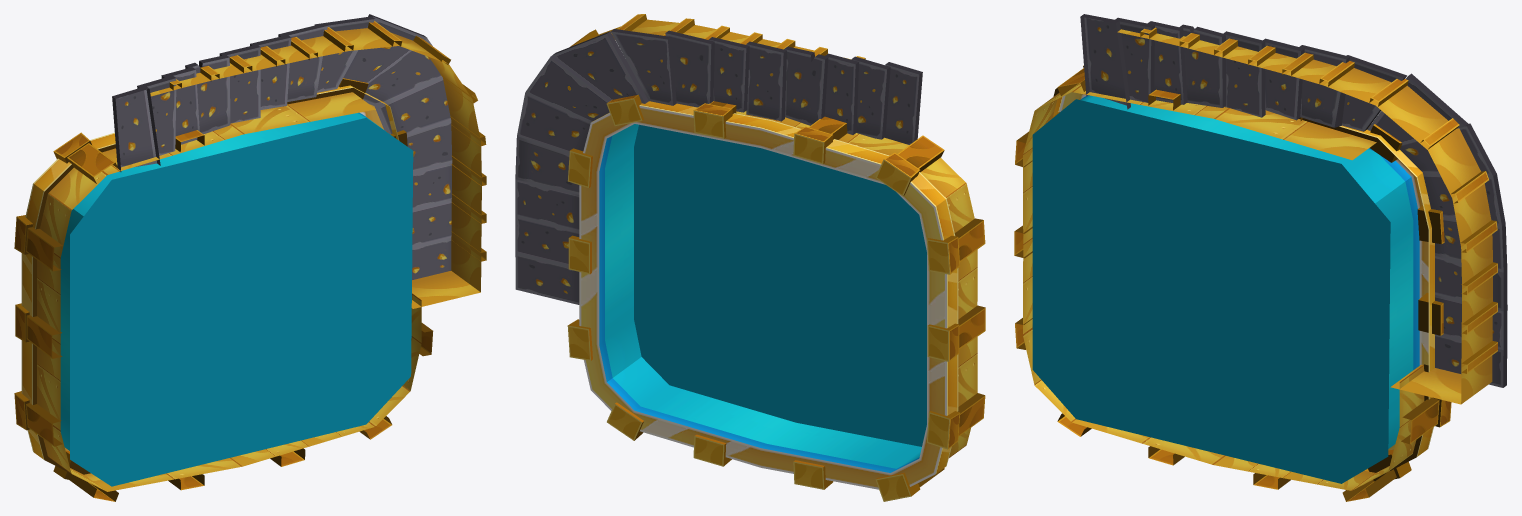
The model's file is GoldSwimmingPool.fbx.
The picture shows the model from 3 angles, left to right: view 1: azimuth 30°, elevation 25°; view 2: azimuth 150°, elevation 25°; view 3: azimuth 330°, elevation 25°; orthographic projection. The views are drawn at different scales.
Parts seen in each view (by area): view 1: GoldSwimmingPool; view 2: GoldSwimmingPool; view 3: GoldSwimmingPool.
Part boxes in pixels (x1,y1,x2,y2): GoldSwimmingPool: (14,14,486,501); GoldSwimmingPool: (515,14,985,501); GoldSwimmingPool: (1014,14,1507,501).
Bounding box in the file's own units: 775 × 695 × 113.
